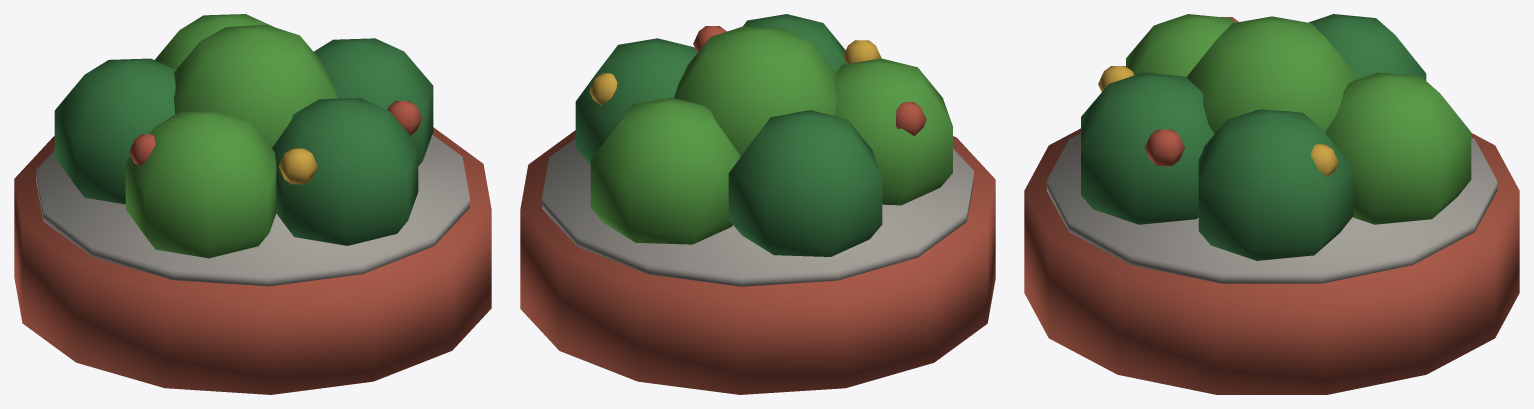
Rendered from planter.glb.
3 renders of one model, left to right at view 1: azimuth 30°, elevation 25°; view 2: azimuth 150°, elevation 25°; view 3: azimuth 270°, elevation 25°, orthographic. The views are drawn at different scales.
Parts seen in each view (by area): view 1: planter; view 2: planter; view 3: planter.
Boxes of the visible parts, x1,y1,x2,y2 form: planter: [14, 14, 491, 394]; planter: [520, 14, 995, 394]; planter: [1024, 14, 1519, 394].
Bounding box in the file's own units: 2.14 × 1.32 × 2.2.
